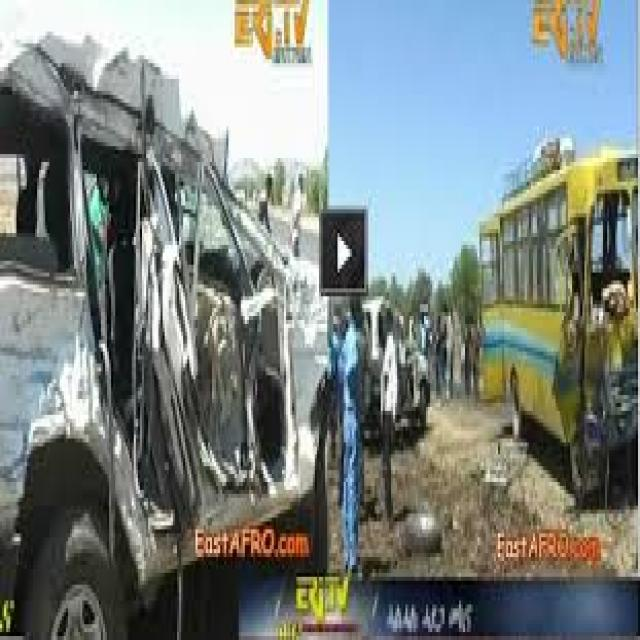accident: (3, 38, 294, 640), (459, 142, 640, 510)
